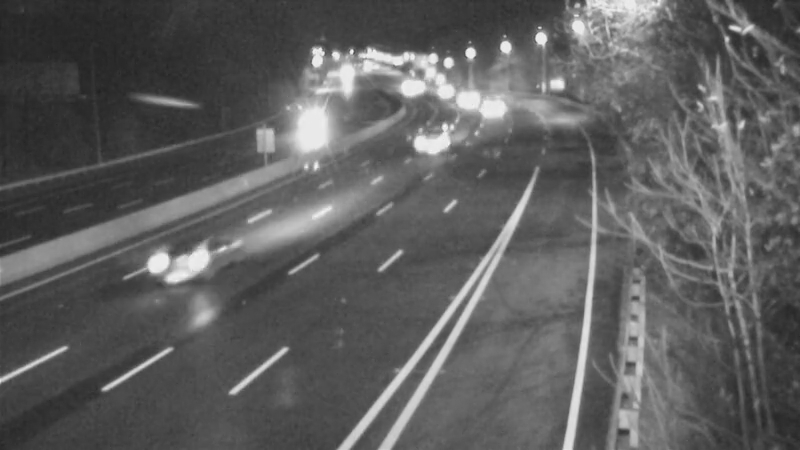vehicle: (146, 221, 226, 301), (422, 68, 472, 118), (442, 74, 492, 124), (464, 84, 514, 134), (408, 115, 458, 165), (292, 105, 342, 155)
